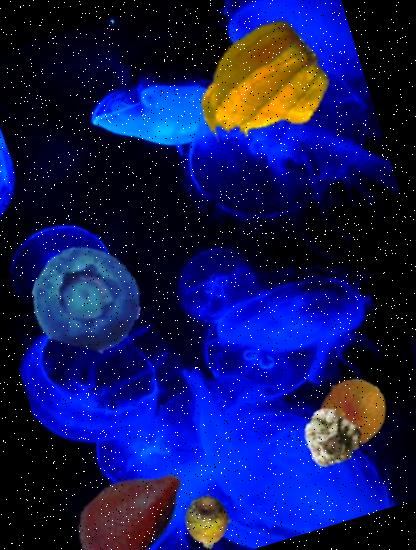Cactus: (174, 486, 244, 550)
Cauliflower: (296, 397, 370, 472)
Huckleberry: (19, 230, 156, 366)
Mandarine: (308, 366, 397, 456)
Physalis: (176, 8, 343, 174)
Salak: (53, 436, 209, 550)
